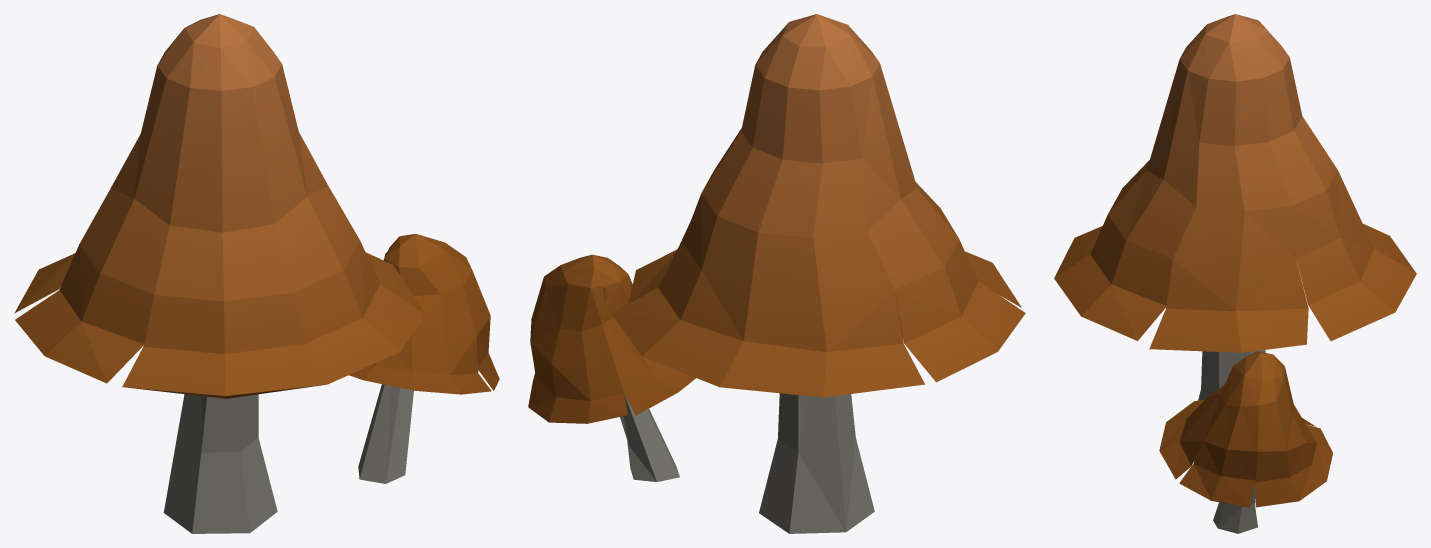
Rendered from Mushroom_02.fbx.
The picture shows the model from 3 angles, left to right: view 1: azimuth 30°, elevation 25°; view 2: azimuth 150°, elevation 25°; view 3: azimuth 270°, elevation 25°; orthographic projection. The views are drawn at different scales.
Parts seen in each view (by area): view 1: Mushroom_02; view 2: Mushroom_02; view 3: Mushroom_02.
Part boxes in pixels (x1=…): Mushroom_02: x1=14, y1=14, x2=499, y2=533; Mushroom_02: x1=528, y1=14, x2=1025, y2=533; Mushroom_02: x1=1054, y1=14, x2=1416, y2=533.
Bounding box in the file's own units: 0.7057 × 0.7427 × 0.5548.
